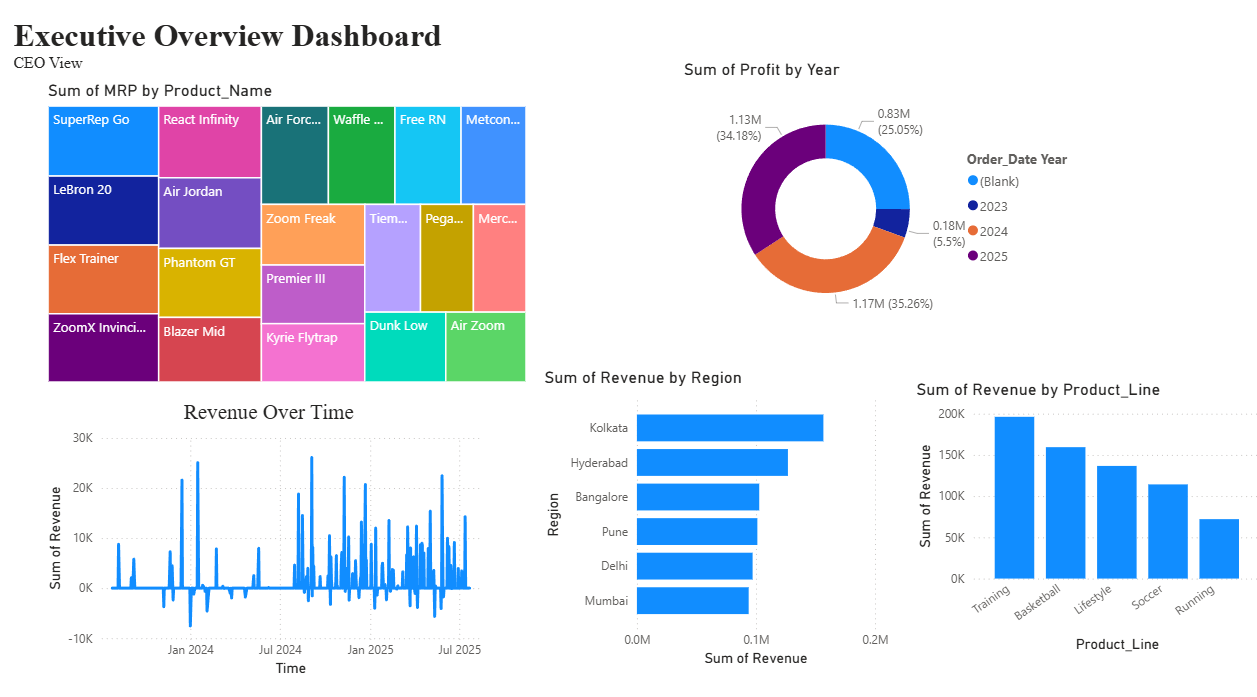

The dashboard page shown, as its layout file describes it:
{"tool":"powerbi","page":{"name":"Executive Overview Dashboard","canvas":[1280,720],"ordinal":0},"visuals":[{"type":"textbox","box":[10,0,280,280],"z":0},{"type":"textbox","box":[10.6,13.6,469.4,69.7],"z":1000},{"type":"lineChart","title":"Revenue Over Time","fields":{"Category":["Nike_Sales_Uncleaned.Order_Date.Variation.Date Hierarchy.Year","Nike_Sales_Uncleaned.Order_Date.Variation.Date Hierarchy.Quarter","Nike_Sales_Uncleaned.Order_Date.Variation.Date Hierarchy.Month","Nike_Sales_Uncleaned.Order_Date.Variation.Date Hierarchy.Day"],"Y":["Sum(Nike_Sales_Uncleaned.Revenue)"]},"box":[43.9,405.8,458.8,283.2],"z":2000},{"type":"clusteredBarChart","fields":{"Category":["Nike_Sales_Uncleaned.Region"],"Y":["Sum(Nike_Sales_Uncleaned.Revenue)"]},"box":[546.6,372.5,357.4,305.9],"z":3000},{"type":"clusteredColumnChart","fields":{"Y":["Sum(Nike_Sales_Uncleaned.Revenue)"],"Category":["Nike_Sales_Uncleaned.Product_Line"]},"box":[922.2,384.6,357.4,280.1],"z":4000},{"type":"donutChart","fields":{"Y":["Sum(Nike_Sales_Uncleaned.Profit)"],"Category":["Nike_Sales_Uncleaned.Order_Date.Variation.Date Hierarchy.Year"]},"box":[687.4,62.1,413.4,280.1],"z":5000},{"type":"treemap","fields":{"Group":["Nike_Sales_Uncleaned.Product_Name"],"Values":["Sum(Nike_Sales_Uncleaned.MRP)"]},"box":[45.4,83.3,492.1,308.9],"z":6000}]}

Visuals, with their boxes in screenshot pixels (x1, y1, x2, y2), scaled from the page's 1280x720 canvas onto the 1257x697 screenshot:
textbox: 10,0,285,271
textbox: 10,13,471,81
"Revenue Over Time" lineChart: 43,393,494,667
clusteredBarChart - Nike_Sales_Uncleaned.Region x Sum(Nike_Sales_Uncleaned.Revenue): 537,361,888,657
clusteredColumnChart - Sum(Nike_Sales_Uncleaned.Revenue) x Nike_Sales_Uncleaned.Product_Line: 906,372,1256,643
donutChart - Sum(Nike_Sales_Uncleaned.Profit) x Nike_Sales_Uncleaned.Order_Date.Variation.Date Hierarchy.Year: 675,60,1081,331
treemap - Nike_Sales_Uncleaned.Product_Name x Sum(Nike_Sales_Uncleaned.MRP): 45,81,528,380
